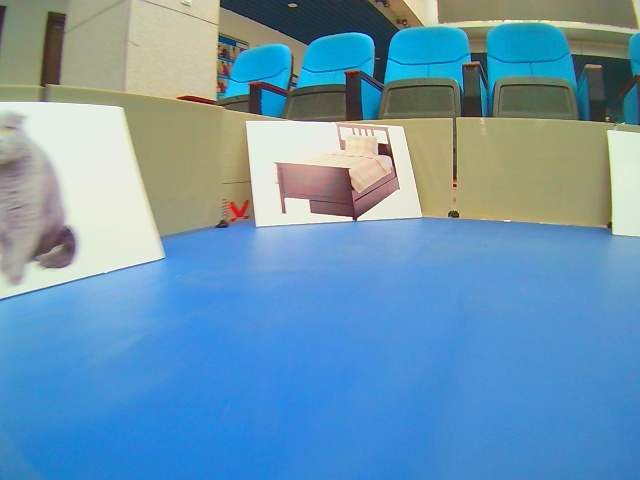bed: (243, 120, 425, 230)
